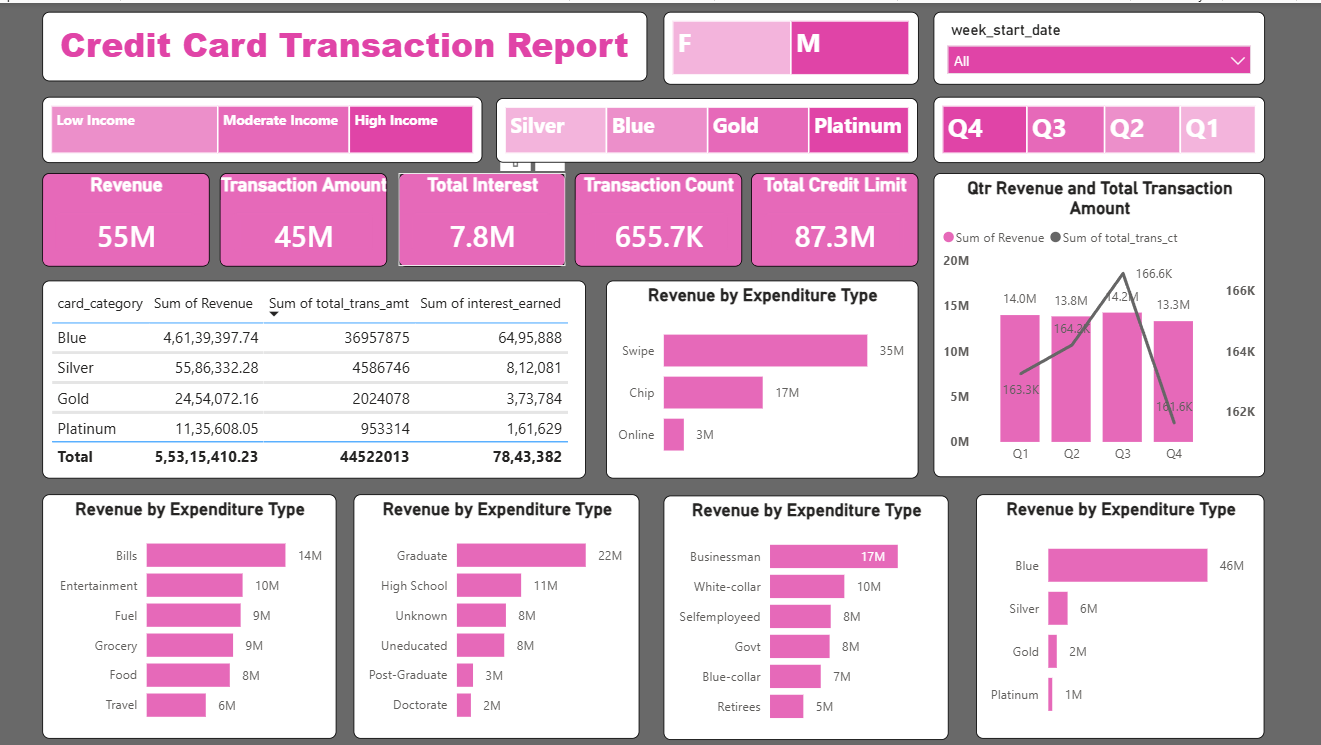

What the dashboard file says about the page in this screenshot:
{"tool":"powerbi","page":{"name":"CC transaction","canvas":[1280,720],"ordinal":0},"visuals":[{"type":"textbox","box":[45,8.8,583.8,67.5],"z":0},{"type":"lineStackedColumnComboChart","title":"Qtr Revenue and Total Transaction Amount ","fields":{"Category":["public credcard_detail.qtr"],"Y":["Sum(public credcard_detail.Revenue)"],"Y2":["Sum(public credcard_detail.total_trans_ct)"]},"box":[905,163.8,320,293.8],"z":1000},{"type":"barChart","title":"Revenue by Expenditure Type","fields":{"Category":["public credcard_detail.exp_type"],"Y":["Sum(public credcard_detail.Revenue)"]},"box":[45,473.8,283.8,236.2],"z":2000},{"type":"barChart","title":"Revenue by Expenditure Type","fields":{"Category":["public cust_detail.education_level"],"Y":["Sum(public credcard_detail.Revenue)"]},"box":[345,473.8,276.2,236.2],"z":3000},{"type":"barChart","title":"Revenue by Expenditure Type","fields":{"Y":["Sum(public credcard_detail.Revenue)"],"Category":["public cust_detail.customer_job"]},"box":[643.8,475,275,236.2],"z":4000},{"type":"barChart","title":"Revenue by Expenditure Type","fields":{"Category":["public credcard_detail.card_category"],"Y":["Sum(public credcard_detail.Revenue)"]},"box":[946.2,473.8,278.8,236.2],"z":5000},{"type":"barChart","title":"Revenue by Expenditure Type","fields":{"Category":["public credcard_detail.use_chip"],"Y":["Sum(public credcard_detail.Revenue)"]},"box":[588.8,267.5,301.2,191.2],"z":6000},{"type":"tableEx","fields":{"Values":["public credcard_detail.card_category","Sum(public credcard_detail.Revenue)","Sum(public credcard_detail.total_trans_amt)","Sum(public credcard_detail.interest_earned)"]},"box":[45,267.5,525,191.2],"z":7000},{"type":"cardVisual","title":"Revenue","fields":{"Data":["Sum(public credcard_detail.Revenue)"]},"box":[45,163.8,161.2,90],"z":8000},{"type":"cardVisual","title":"Transaction Amount","fields":{"Data":["Sum(public credcard_detail.total_trans_amt)"]},"box":[216.2,163.8,161.2,90],"z":9000},{"type":"cardVisual","title":"Total Interest","fields":{"Data":["Sum(public credcard_detail.interest_earned)"]},"box":[388.8,163.8,161.2,90],"z":10000},{"type":"cardVisual","title":"Transaction Count","fields":{"Data":["Sum(public credcard_detail.total_trans_ct)"]},"box":[558.8,163.8,161.2,90],"z":11000},{"type":"cardVisual","title":"Total Credit Limit","fields":{"Data":["Sum(public credcard_detail.credit_limit)"]},"box":[728.8,163.8,161.2,90],"z":12000},{"type":"slicer","fields":{"Values":["public credcard_detail.week_start_date"]},"box":[905,8.8,320,70],"z":13000},{"type":"treemap","fields":{"Group":["public credcard_detail.qtr"],"Values":["Avg(public credcard_detail.client_num)"]},"box":[905,90,320,63.8],"z":14000},{"type":"treemap","fields":{"Group":["public cust_detail.gender"],"Values":["Avg(public credcard_detail.client_num)"]},"box":[643.8,8.8,246.2,70],"z":15000},{"type":"treemap","fields":{"Group":["public credcard_detail.card_category"],"Values":["Avg(public credcard_detail.client_num)"]},"box":[482.5,91.2,407.5,62.5],"z":16000},{"type":"treemap","fields":{"Values":["Sum(public credcard_detail.client_num)"],"Group":["public cust_detail.IncomeGroup"]},"box":[45,90,425,63.8],"z":17000}]}

Visuals, with their boxes in screenshot pixels (x1, y1, x2, y2), scaled from the page's 1280x720 canvas onto the 1321x745 screenshot:
textbox: box(46, 9, 649, 79)
"Qtr Revenue and Total Transaction Amount " lineStackedColumnComboChart: box(934, 169, 1264, 473)
"Revenue by Expenditure Type" barChart: box(46, 490, 339, 735)
"Revenue by Expenditure Type" barChart: box(356, 490, 641, 735)
"Revenue by Expenditure Type" barChart: box(664, 491, 948, 736)
"Revenue by Expenditure Type" barChart: box(977, 490, 1264, 735)
"Revenue by Expenditure Type" barChart: box(608, 277, 919, 475)
tableEx - public credcard_detail.card_category x Sum(public credcard_detail.Revenue): box(46, 277, 588, 475)
"Revenue" cardVisual: box(46, 169, 213, 263)
"Transaction Amount" cardVisual: box(223, 169, 389, 263)
"Total Interest" cardVisual: box(401, 169, 568, 263)
"Transaction Count" cardVisual: box(577, 169, 743, 263)
"Total Credit Limit" cardVisual: box(752, 169, 919, 263)
slicer - public credcard_detail.week_start_date: box(934, 9, 1264, 82)
treemap - public credcard_detail.qtr x Avg(public credcard_detail.client_num): box(934, 93, 1264, 159)
treemap - public cust_detail.gender x Avg(public credcard_detail.client_num): box(664, 9, 919, 82)
treemap - public credcard_detail.card_category x Avg(public credcard_detail.client_num): box(498, 94, 919, 159)
treemap - Sum(public credcard_detail.client_num) x public cust_detail.IncomeGroup: box(46, 93, 485, 159)
